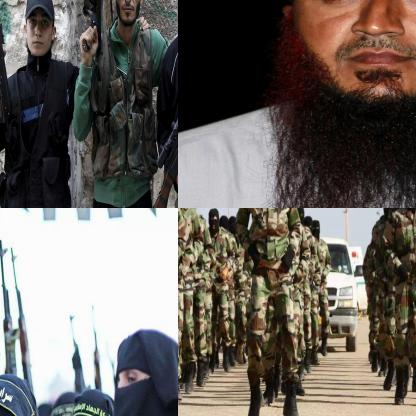rifle: (140, 0, 177, 207), (10, 243, 30, 388), (84, 292, 109, 408), (64, 308, 90, 408), (0, 0, 18, 141), (0, 232, 13, 392), (76, 0, 109, 61)
